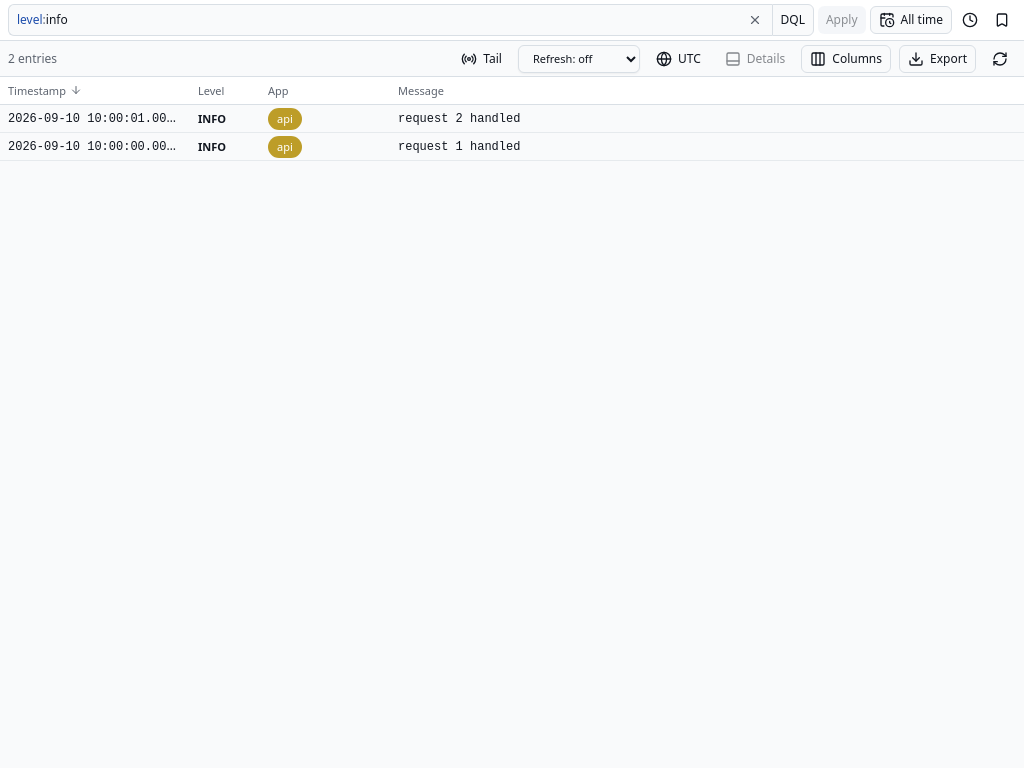
ExportDialog › exports all filtered rows with the visible columns and reports completion
Click the button "Export" at {"x": 938, "y": 58}, box [899,44,976,72]
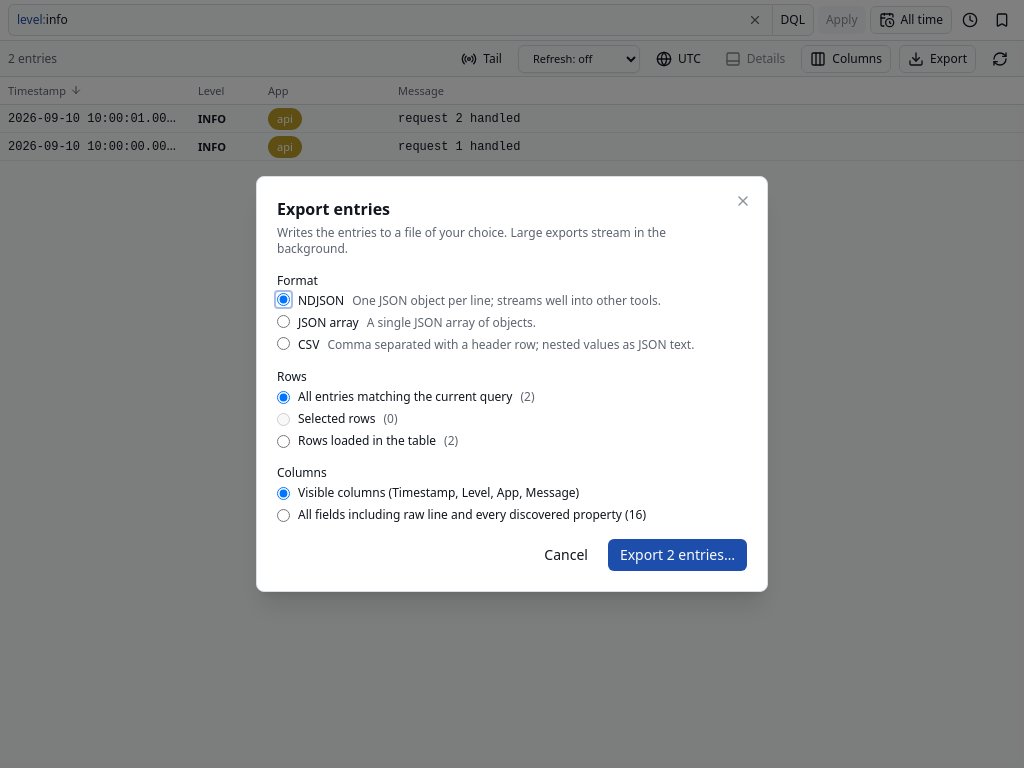
expect the radio button labelled "Selected rows (0)" is disabled: met, box [277,412,290,426]
Click the radio button labelled "CSV" at {"x": 284, "y": 344}, box [277,337,290,350]
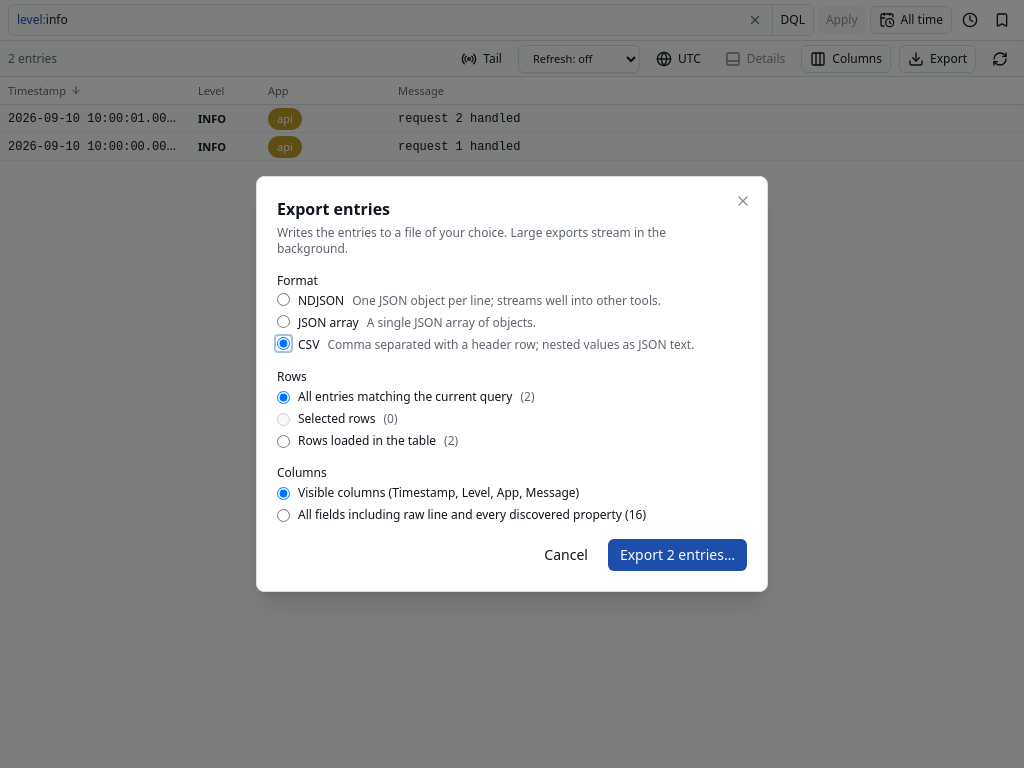
Click the button "Export 2 entries…" at {"x": 677, "y": 555}, box [608,539,747,571]
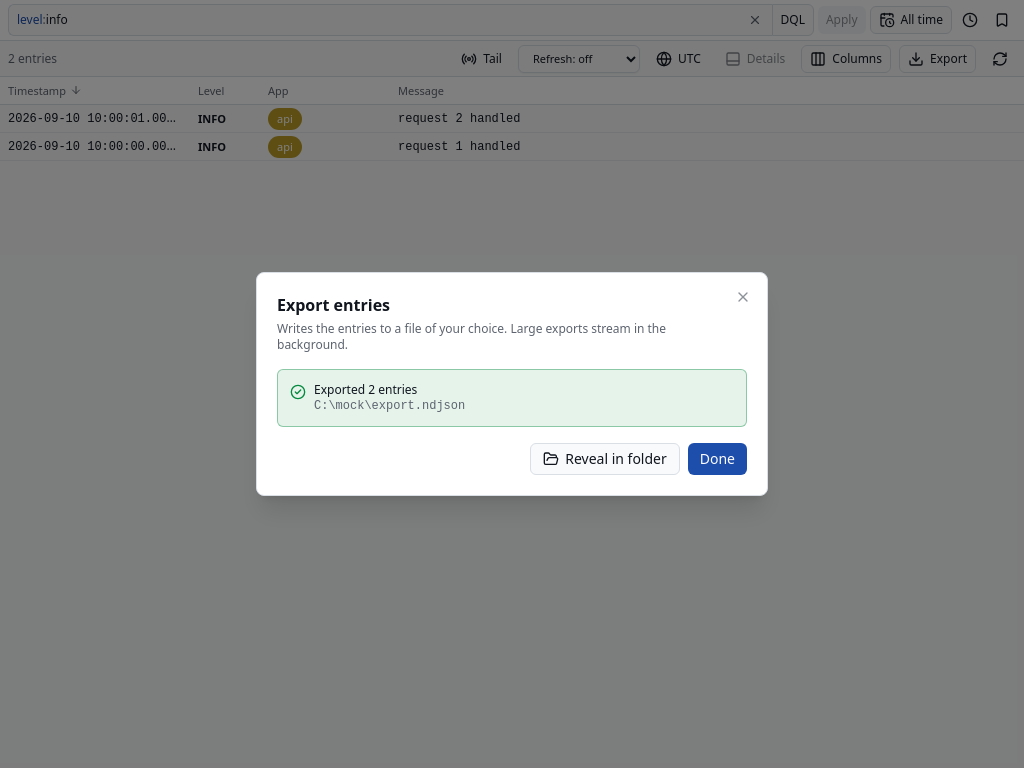
expect the text "Exported 2 entries" is shown: met, box [314,381,417,398]
expect the text "C:\\mock\\export.ndjson" is shown: met, box [314,398,465,414]
Click the button "Reveal in folder" at {"x": 605, "y": 459}, box [530,443,680,475]
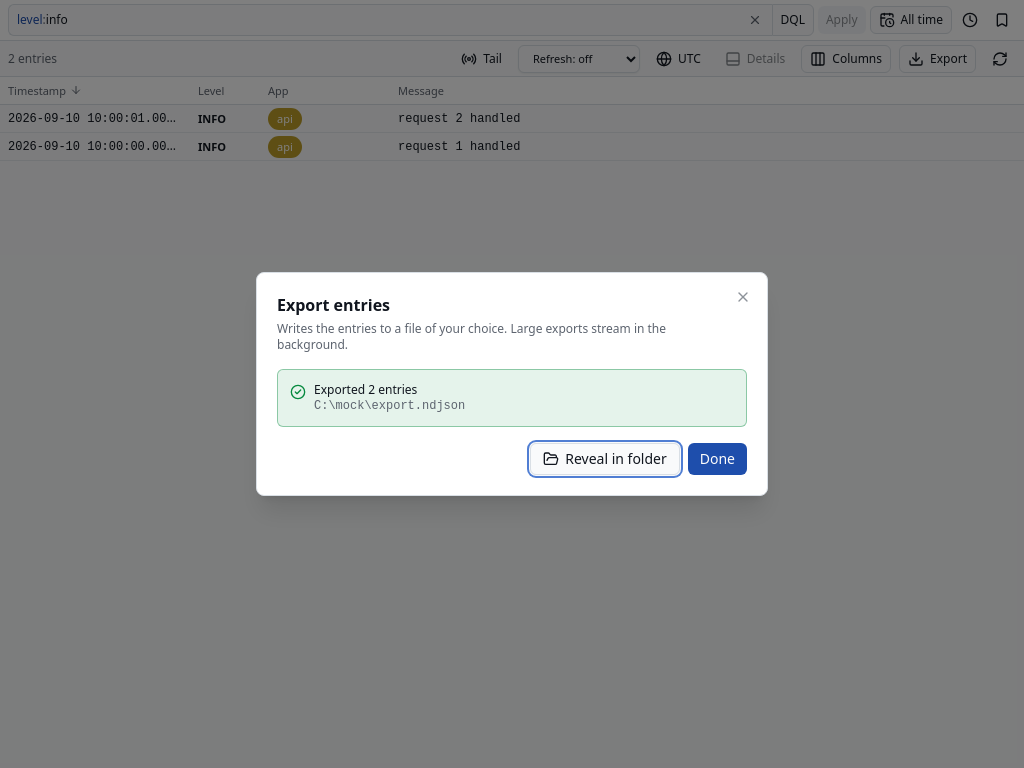
Click the button "Done" at {"x": 717, "y": 459}, box [688,443,747,475]
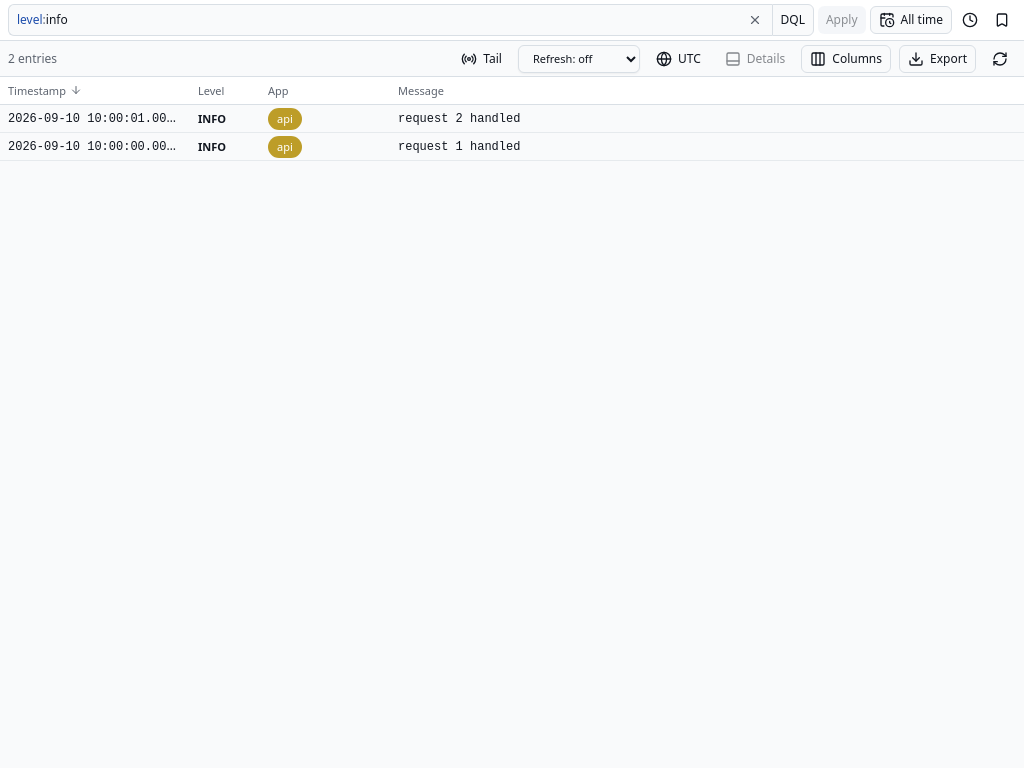
expect the dialog is gone: met
